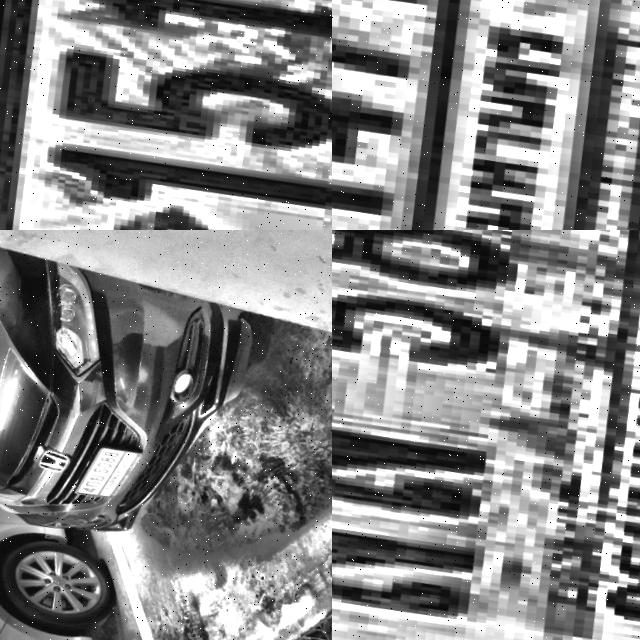license-plate: (332, 230, 640, 640), (0, 0, 332, 230), (332, 0, 640, 230), (64, 441, 147, 509)
